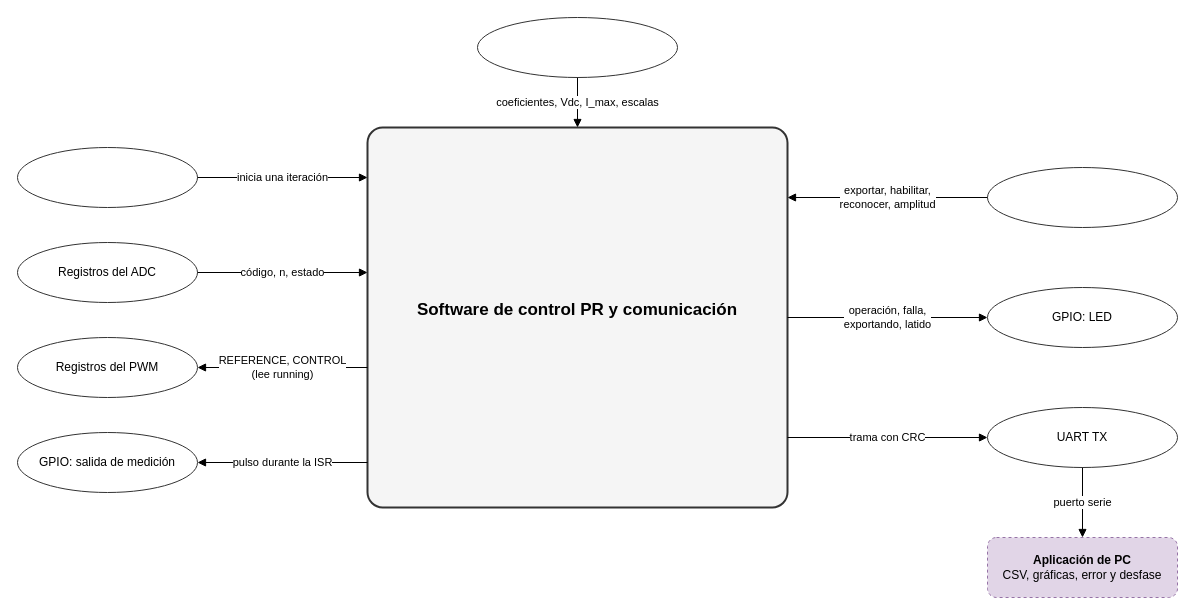
Image size: 1195x615. Some labels were removed from this diagram. Here are the shapes that lost their labels. From the top down, the centre of each, then its label:
point 577,47: Parámetros de configuración
point 107,177: Interrupción del Timer
point 1082,197: GPIO: botones e interruptores
